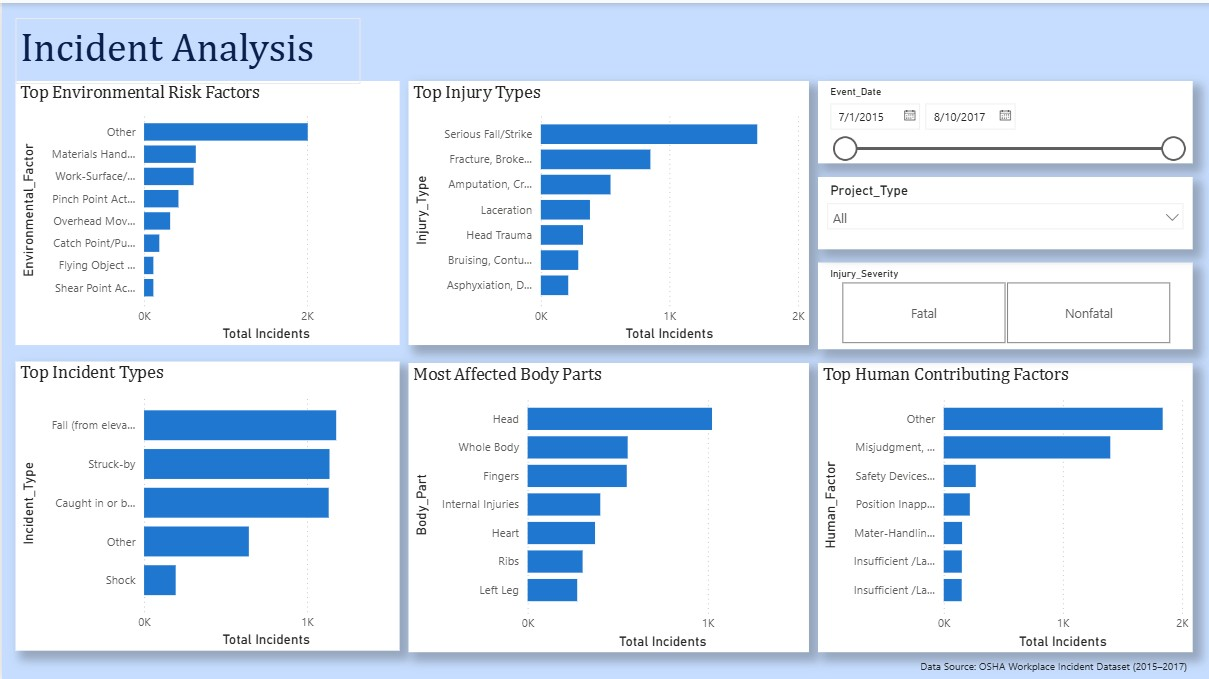

This screenshot's page, from the dashboard's own definition file:
{"tool":"powerbi","page":{"name":"Incident Analysis","canvas":[1280,720],"ordinal":1},"visuals":[{"type":"barChart","title":"Top Incident Types","fields":{"Category":["osha.Incident_Type"],"Y":["osha.Total Incidents"]},"box":[14.6,379.6,407.2,307],"z":0},{"type":"barChart","title":"Top Injury Types","fields":{"Category":["osha.Injury_Type"],"Y":["osha.Total_Incidents"]},"box":[431.4,82.1,424.7,279.9],"z":1000},{"type":"barChart","title":"Most Affected Body Parts","fields":{"Category":["osha.Body_Part"],"Y":["osha.Total_Incidents"]},"box":[431.4,381.2,424.7,307],"z":2000},{"type":"barChart","title":"Top Environmental Risk Factors","fields":{"Category":["osha.Environmental_Factor"],"Y":["osha.Total_Incidents"]},"box":[14.6,82.1,407.2,279.9],"z":3000},{"type":"barChart","title":"Top Human Contributing Factors","fields":{"Category":["osha.Human_Factor"],"Y":["osha.Total Incidents"]},"box":[865.6,381.2,397.7,307],"z":4000},{"type":"slicer","fields":{"Values":["osha.Event_Date"]},"box":[865.6,82.1,397.7,87.5],"z":5000},{"type":"slicer","fields":{"Values":["osha.Injury_Severity"]},"box":[865.6,274.6,397.7,92.3],"z":6000},{"type":"slicer","fields":{"Values":["osha.Project_Type"]},"box":[865.6,183.9,397.7,76.3],"z":7000},{"type":"textbox","box":[14.3,15.9,365.8,70],"z":8000},{"type":"textbox","box":[969.3,686.4,310.8,29.5],"z":8001}]}

Visuals, with their boxes in screenshot pixels (x1, y1, x2, y2), scaled from the page's 1280x720 canvas onto the 1209x679 screenshot:
"Top Incident Types" barChart: rect(14, 358, 398, 648)
"Top Injury Types" barChart: rect(407, 77, 809, 341)
"Most Affected Body Parts" barChart: rect(407, 359, 809, 649)
"Top Environmental Risk Factors" barChart: rect(14, 77, 398, 341)
"Top Human Contributing Factors" barChart: rect(818, 359, 1193, 649)
slicer - osha.Event_Date: rect(818, 77, 1193, 160)
slicer - osha.Injury_Severity: rect(818, 259, 1193, 346)
slicer - osha.Project_Type: rect(818, 173, 1193, 245)
textbox: rect(14, 15, 359, 81)
textbox: rect(916, 647, 1208, 675)
